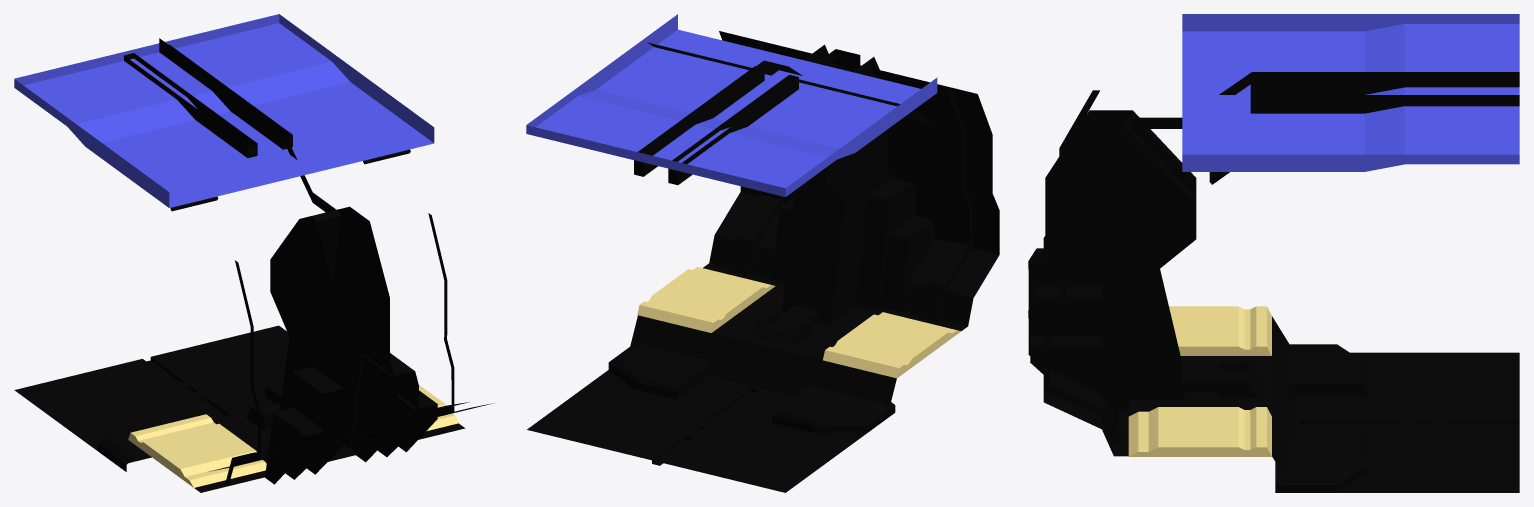
The model's file is Stage02PartsB_v2.0.FBX.
3 views of the same model, side by side, from view 1: azimuth 30°, elevation 25°; view 2: azimuth 150°, elevation 25°; view 3: azimuth 270°, elevation 25° (orthographic). The views are drawn at different scales.
Visible parts, largest first — view 1: PartsB_v2.0_001; view 2: PartsB_v2.0_001; view 3: PartsB_v2.0_001.
Part boxes in pixels (x1,y1,x2,y2): PartsB_v2.0_001: (14,14,494,492); PartsB_v2.0_001: (526,14,999,492); PartsB_v2.0_001: (1028,14,1519,492).
Size of the model in its own units: 276 by 318 by 407.
